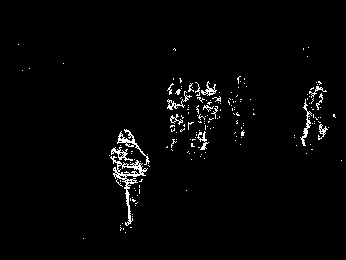person: (111, 130, 151, 230), (200, 73, 223, 157), (303, 77, 329, 149), (167, 75, 188, 154), (186, 80, 202, 151)
